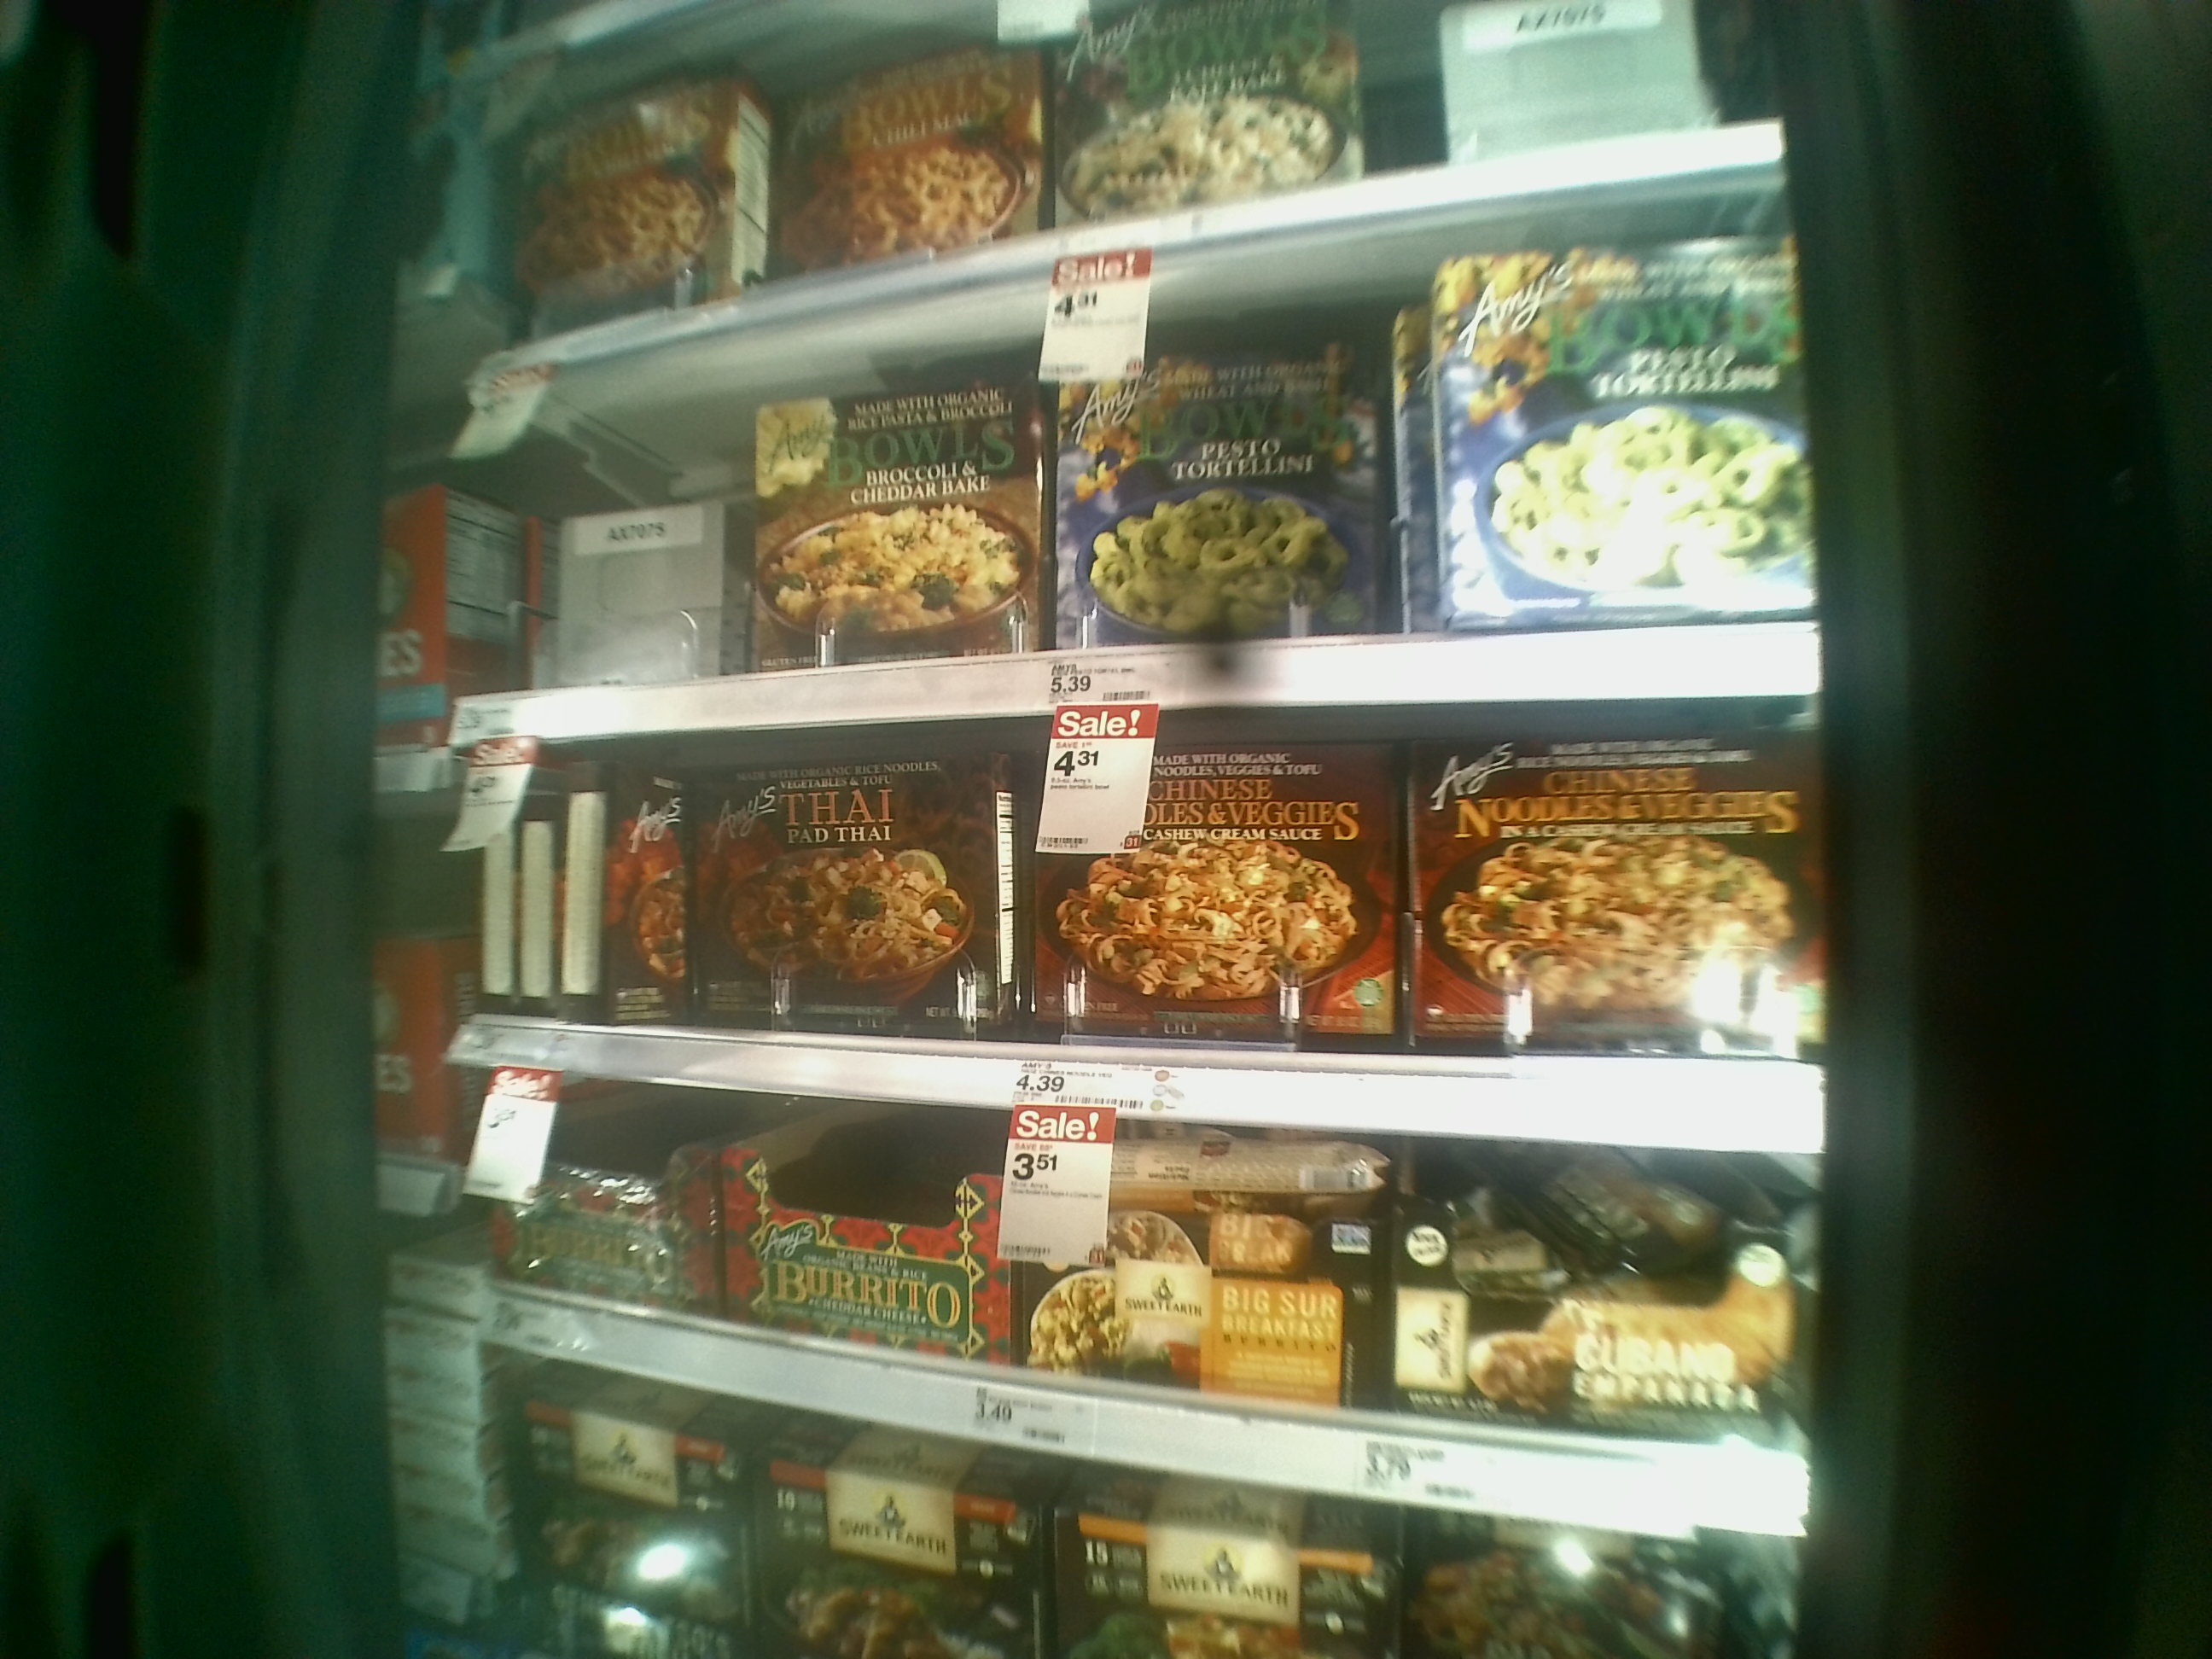frozen-food-shelf: (432, 739, 1834, 1159), (435, 385, 1827, 708)
